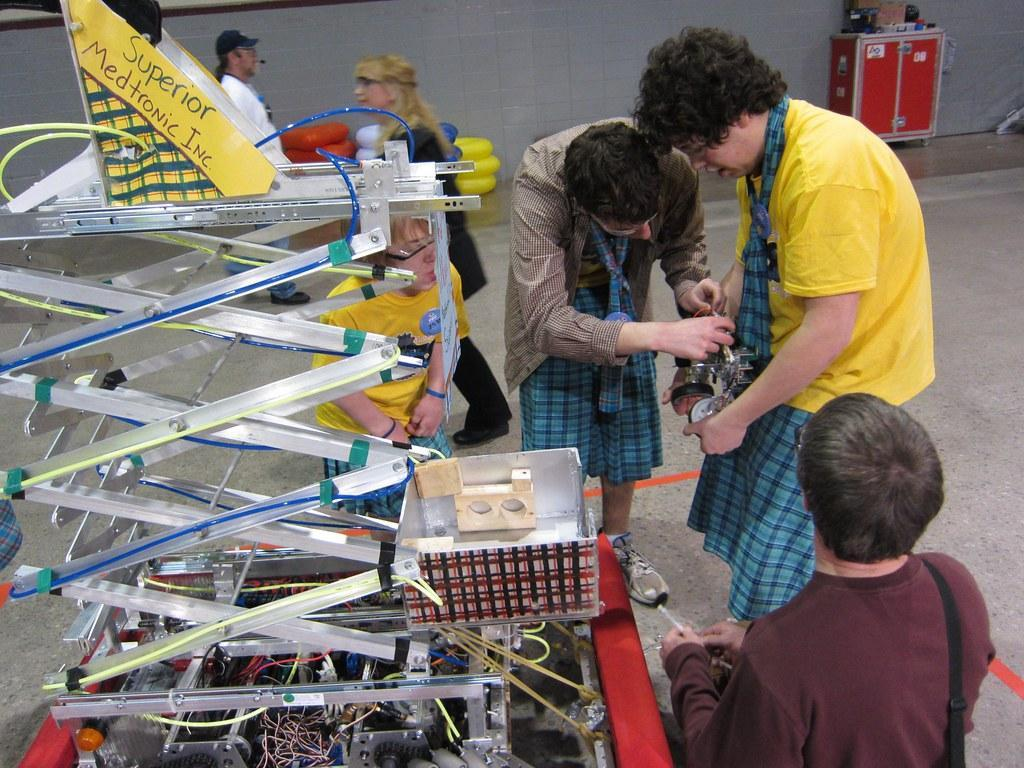robot: (0, 142, 674, 768)
